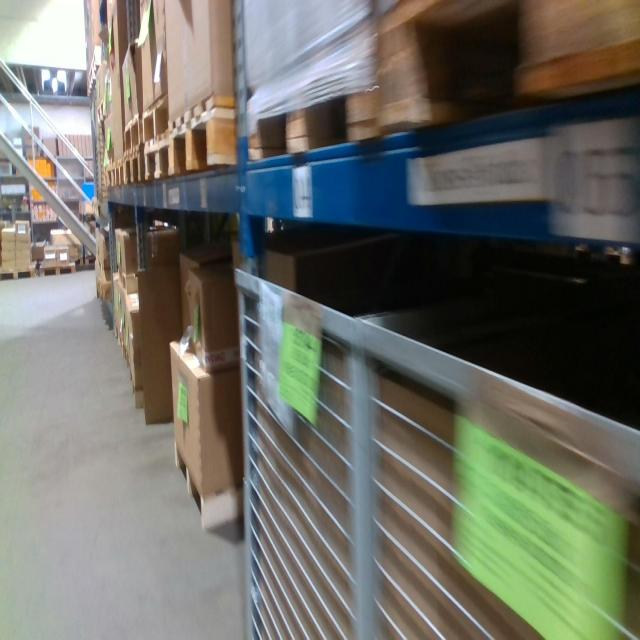pallet: (377, 0, 637, 139), (245, 79, 384, 160), (172, 439, 249, 528), (167, 89, 235, 181), (142, 85, 173, 148), (143, 124, 175, 182), (123, 108, 142, 155), (124, 147, 145, 186), (39, 258, 76, 279), (1, 261, 34, 282), (91, 48, 103, 79), (114, 160, 125, 189), (104, 160, 114, 189)
stillage: (363, 287, 639, 638), (230, 247, 364, 640), (93, 94, 105, 204), (122, 2, 140, 52)
